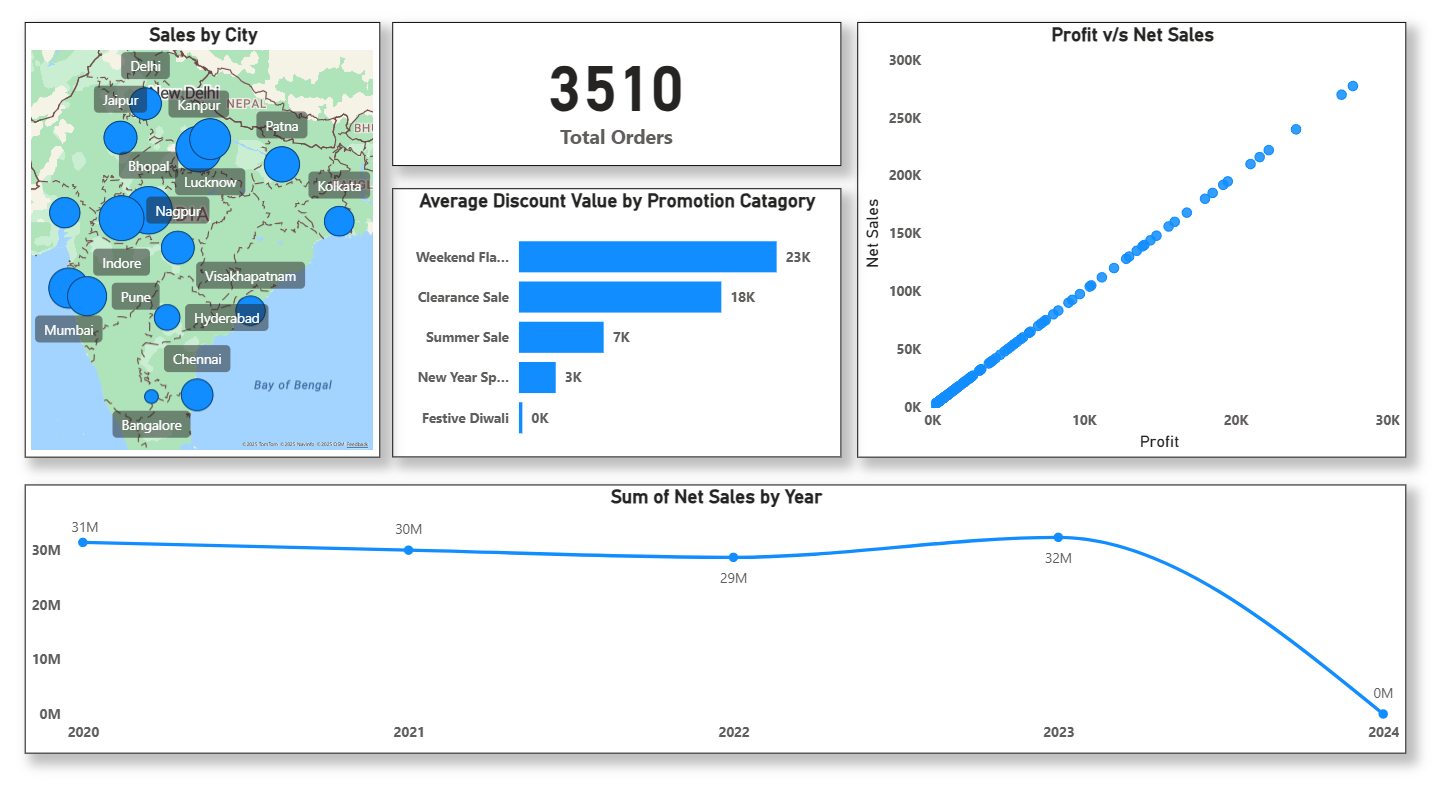

The dashboard page shown, as its layout file describes it:
{"tool":"powerbi","page":{"name":"Sales Trends","canvas":[1280,720],"ordinal":1},"visuals":[{"type":"lineChart","fields":{"Y":["Sum(facts table.Net Sales)"],"Category":["Date Table 1.Date.Variation.Date Hierarchy.Year","Date Table 1.Date.Variation.Date Hierarchy.Quarter","Date Table 1.Date.Variation.Date Hierarchy.Month","Date Table 1.Date.Variation.Date Hierarchy.Day"]},"box":[25.6,446.5,1227.9,239.5],"z":0},{"type":"scatterChart","title":"Profit v/s Net Sales","fields":{"X":["facts table.Profit"],"Y":["facts table.Net Sales"]},"box":[765.1,36,488.4,387.2],"z":1000},{"type":"barChart","title":"Average Discount Value by Promotion Catagory","fields":{"Y":["Avg(facts table.Discount Value)"],"Category":["Dim Promotion.Promotion Name"]},"box":[352.3,183.7,398.8,239.5],"z":2000},{"type":"azureMap","title":"Sales by City","fields":{"Category":["Dim Customers.City"],"Size":["Sum(facts table.Net Sales)"]},"box":[25.6,36,316.3,387.2],"z":3000},{"type":"card","fields":{"Values":["Count(facts table.Order ID)"]},"box":[352.3,36,398.8,127.9],"z":4000}]}

Visuals, with their boxes in screenshot pixels (x1, y1, x2, y2), scaled from the page's 1280x720 canvas onto the 1447x791 screenshot:
lineChart - Sum(facts table.Net Sales) x Date Table 1.Date.Variation.Date Hierarchy.Year: {"x1": 29, "y1": 491, "x2": 1417, "y2": 754}
"Profit v/s Net Sales" scatterChart: {"x1": 865, "y1": 40, "x2": 1417, "y2": 465}
"Average Discount Value by Promotion Catagory" barChart: {"x1": 398, "y1": 202, "x2": 849, "y2": 465}
"Sales by City" azureMap: {"x1": 29, "y1": 40, "x2": 387, "y2": 465}
card - Count(facts table.Order ID): {"x1": 398, "y1": 40, "x2": 849, "y2": 180}
